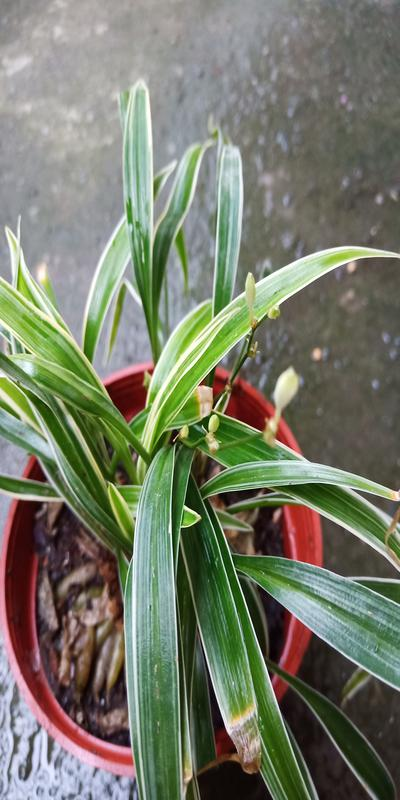Yellow and green leaf: (9, 226, 377, 748)
